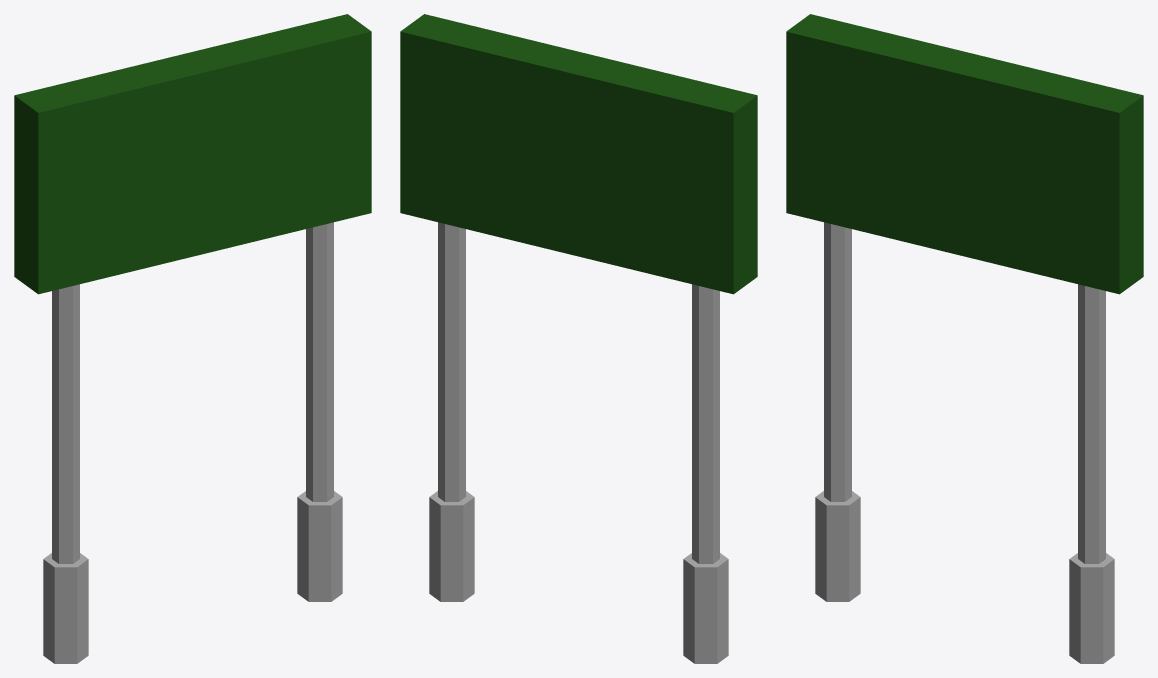
The model's file is sign.glb.
3 renders of one model, left to right at view 1: azimuth 30°, elevation 25°; view 2: azimuth 150°, elevation 25°; view 3: azimuth 330°, elevation 25°, orthographic.
Parts seen in each view (by area): view 1: SignBoard_08_Cylinder.032; view 2: SignBoard_08_Cylinder.032; view 3: SignBoard_08_Cylinder.032.
Part boxes in pixels (x1=…): SignBoard_08_Cylinder.032: x1=14, y1=14, x2=371, y2=663; SignBoard_08_Cylinder.032: x1=400, y1=14, x2=757, y2=663; SignBoard_08_Cylinder.032: x1=786, y1=14, x2=1143, y2=663.
Bounding box in the file's own units: 9.38 × 15.09 × 1.17.
